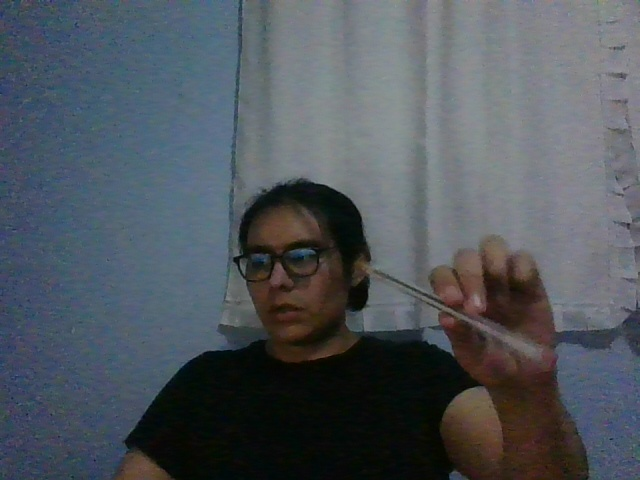pluma: (355, 262, 559, 370)
